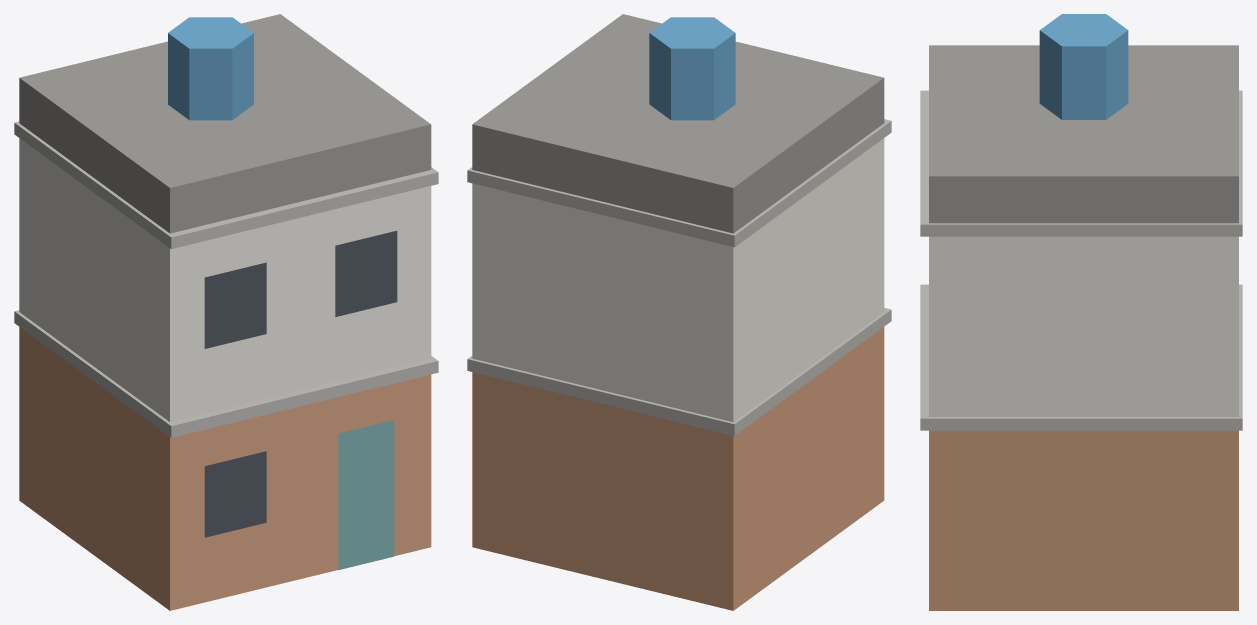
3 renders of one model, left to right at view 1: azimuth 30°, elevation 25°; view 2: azimuth 150°, elevation 25°; view 3: azimuth 270°, elevation 25°, orthographic. The views are drawn at different scales.
Parts seen in each view (by area): view 1: fv_h01.lod1; view 2: fv_h01.lod1; view 3: fv_h01.lod1.
Boxes of the visible parts, x1,y1,x2,y2 form: fv_h01.lod1: (14,14,438,610); fv_h01.lod1: (467,14,891,610); fv_h01.lod1: (920,14,1242,610).
Bounding box in the file's own units: 4.3 × 7.6 × 4.37.
